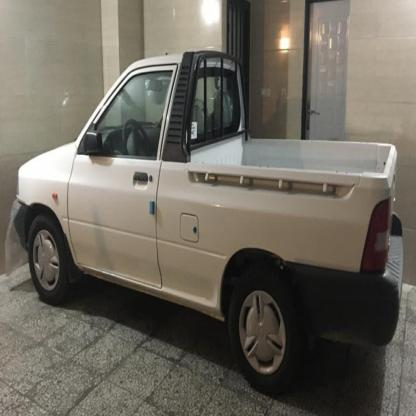Car: (0, 58, 410, 386)
